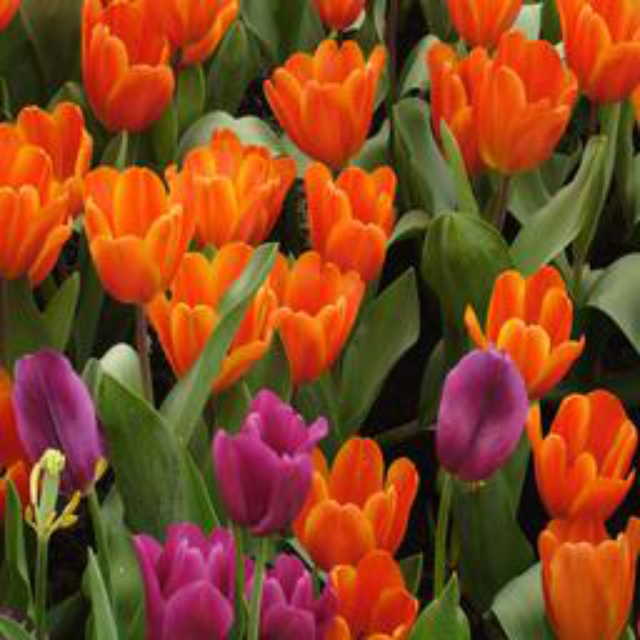tulip: (151, 242, 277, 396), (205, 388, 327, 545), (296, 434, 420, 575), (2, 104, 93, 296), (460, 265, 586, 402), (78, 162, 186, 314), (262, 38, 387, 167), (525, 389, 636, 534), (477, 31, 578, 188), (166, 126, 295, 245), (10, 349, 111, 500), (434, 345, 532, 489), (80, 2, 178, 137), (272, 253, 367, 390), (531, 511, 635, 636), (132, 519, 239, 637), (303, 158, 398, 290), (426, 41, 504, 178), (551, 1, 637, 113), (239, 553, 340, 637), (332, 548, 422, 636)
